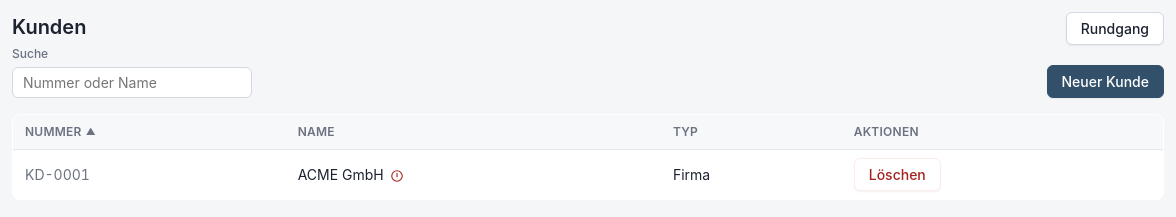
Scenario: Kunden › zeigt einen Hinweis, wenn die Suche keine Treffer liefert
The image size is (1176, 217).
Expected: the text "ACME GmbH" is shown, [286,150,661,200]
Type "xyz" into the search field labelled "Suche".
click(132, 82); type("xyz")  # box [12,67,252,98]
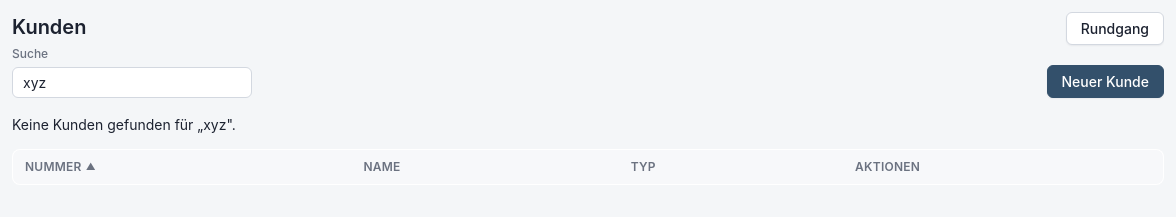
Expected: the text "Keine Kunden gefunden für „xyz\"." is shown, [12,116,236,133]
